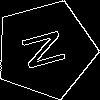N: (20, 24, 76, 72)
